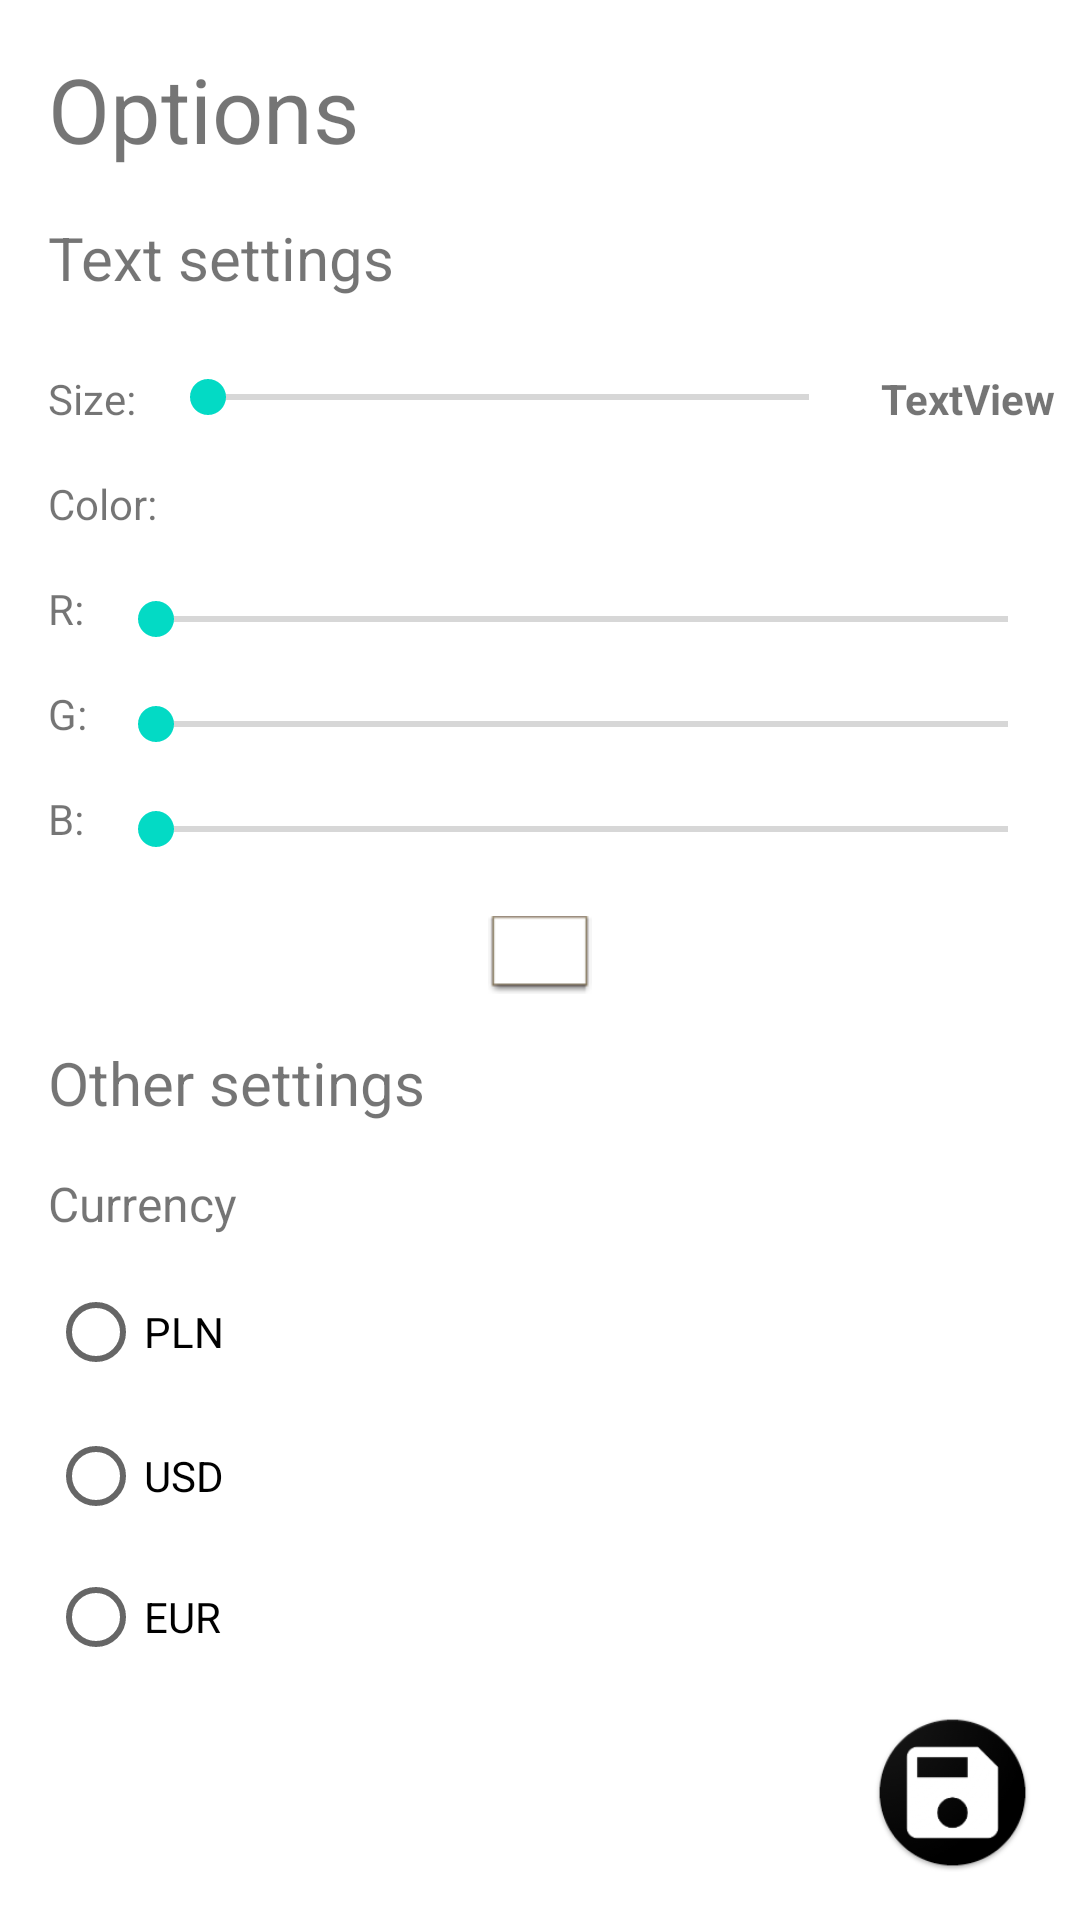

Screen size 1080x1920. Icon name, then its box in pixels as bbox(x1, y1, x2, y2):
Save button: bbox(879, 1719, 1026, 1869)
